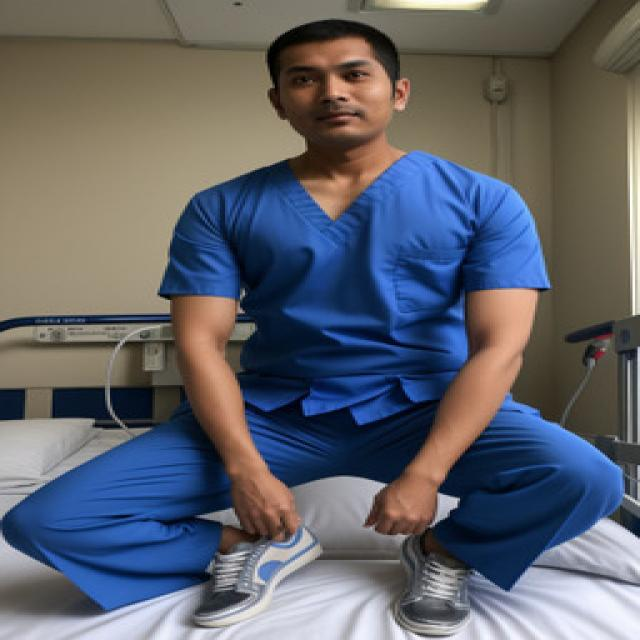Ai human 2: (15, 15, 637, 640)
